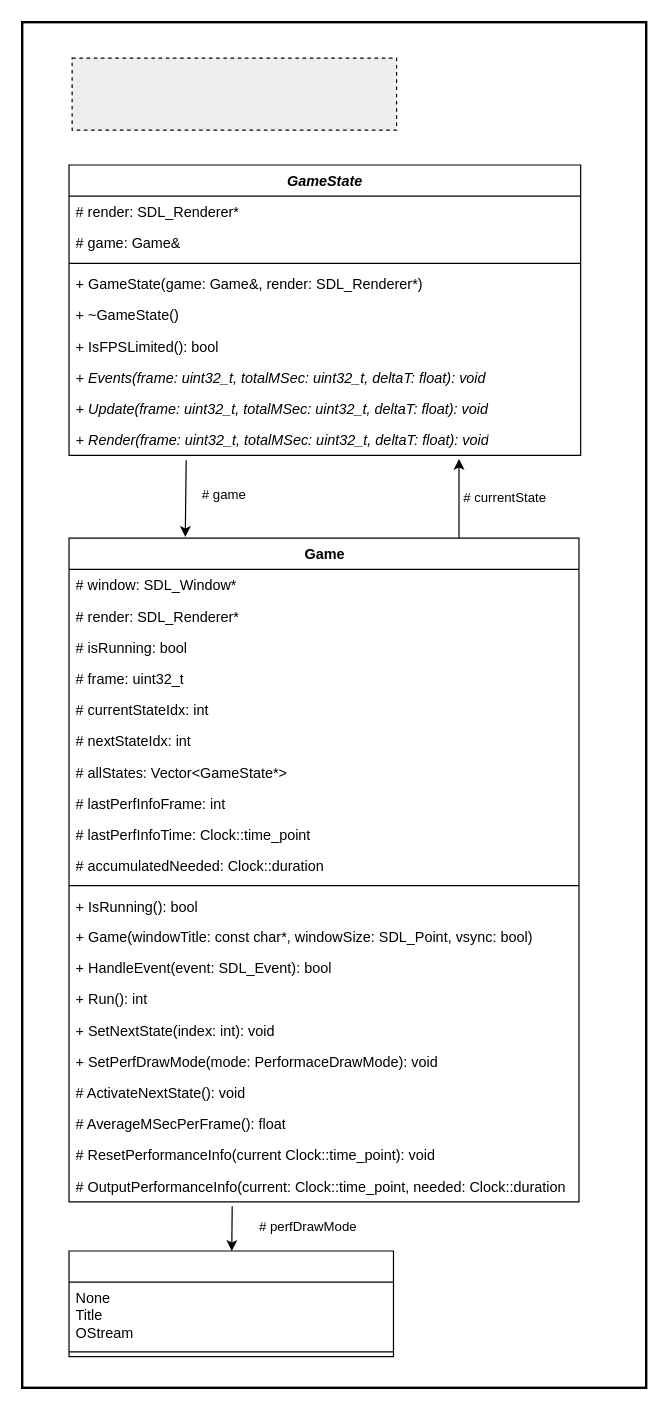
Some shapes in this 667 by 1409 pixel diagram are drawn without their labels. Each missing label, with the box of its shape:
<<enumeration>> PerformanceDrawMode: (68, 1250, 393, 1357)
Vector = std::vector Clock = std::chrono::high_resolution_clock: (71, 57, 397, 130)
